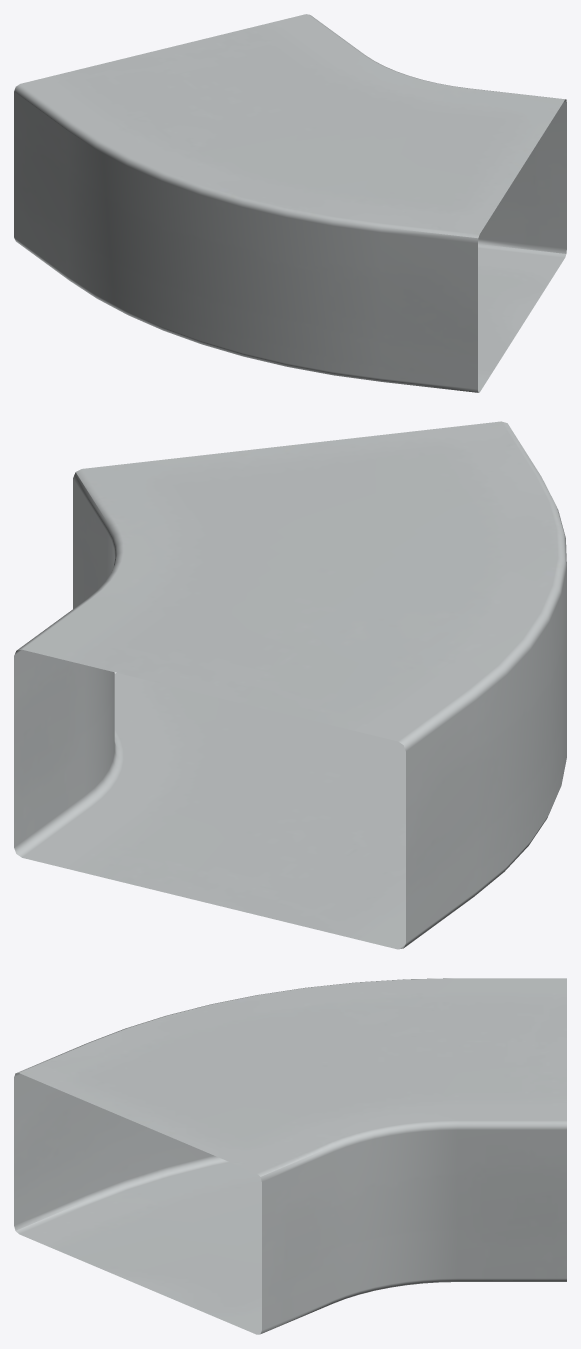
Rendered from bend_45.gltf.
3 views of the same model, one above another, from view 1: azimuth 30°, elevation 25°; view 2: azimuth 150°, elevation 25°; view 3: azimuth 270°, elevation 25° (orthographic). The views are drawn at different scales.
Visible parts, largest first — view 1: bend_45; view 2: bend_45; view 3: bend_45.
Part boxes in pixels (bbox=[...]): bend_45: bbox=[14, 14, 566, 392]; bend_45: bbox=[14, 421, 566, 949]; bend_45: bbox=[14, 978, 566, 1334].
Bounding box in the file's own units: 1.02 × 0.384 × 1.19.
1 material, 1 textured.
